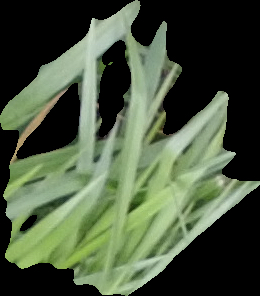grass: (1, 2, 258, 294)
